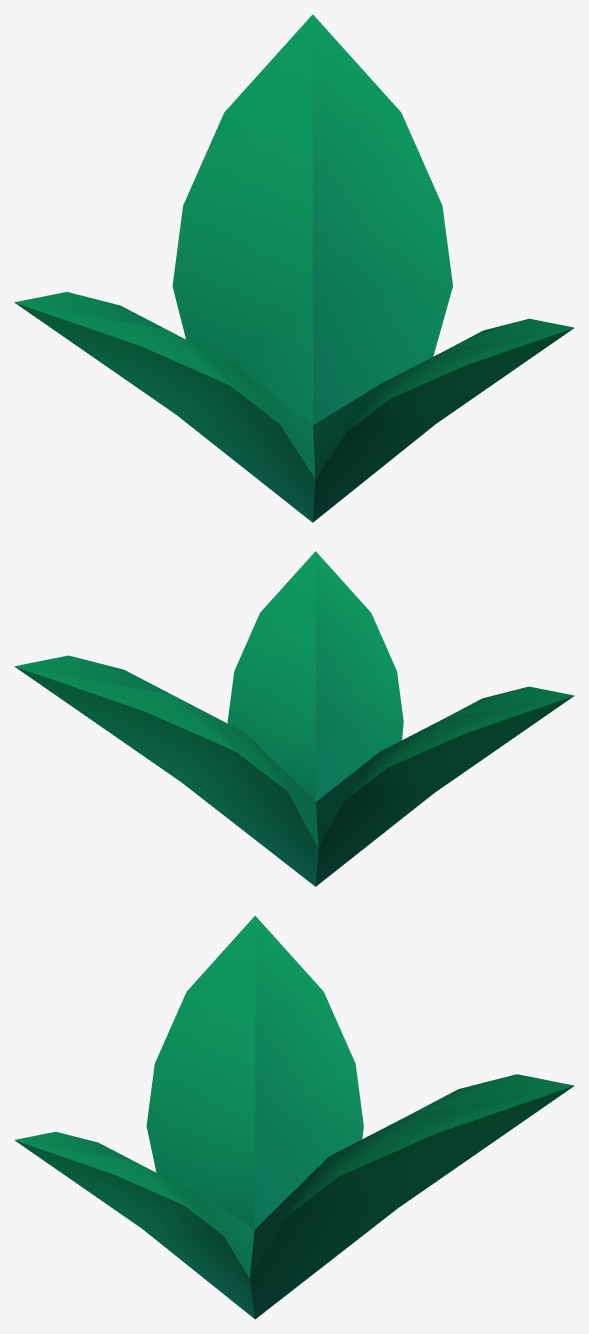
The model's file is waterplant_a.glb.
The picture shows the model from 3 angles, top to bottom: view 1: azimuth 30°, elevation 25°; view 2: azimuth 150°, elevation 25°; view 3: azimuth 270°, elevation 25°; orthographic projection. The views are drawn at different scales.
Visible parts, largest first — view 1: waterplant_A; view 2: waterplant_A; view 3: waterplant_A.
Boxes of the visible parts, box(x1,y1,x2,y2) form: waterplant_A: box(14, 14, 574, 522); waterplant_A: box(14, 551, 574, 886); waterplant_A: box(14, 915, 574, 1319).
Size of the model in its own units: 0.1983 by 0.1323 by 0.2157.
1 material, 1 textured.
